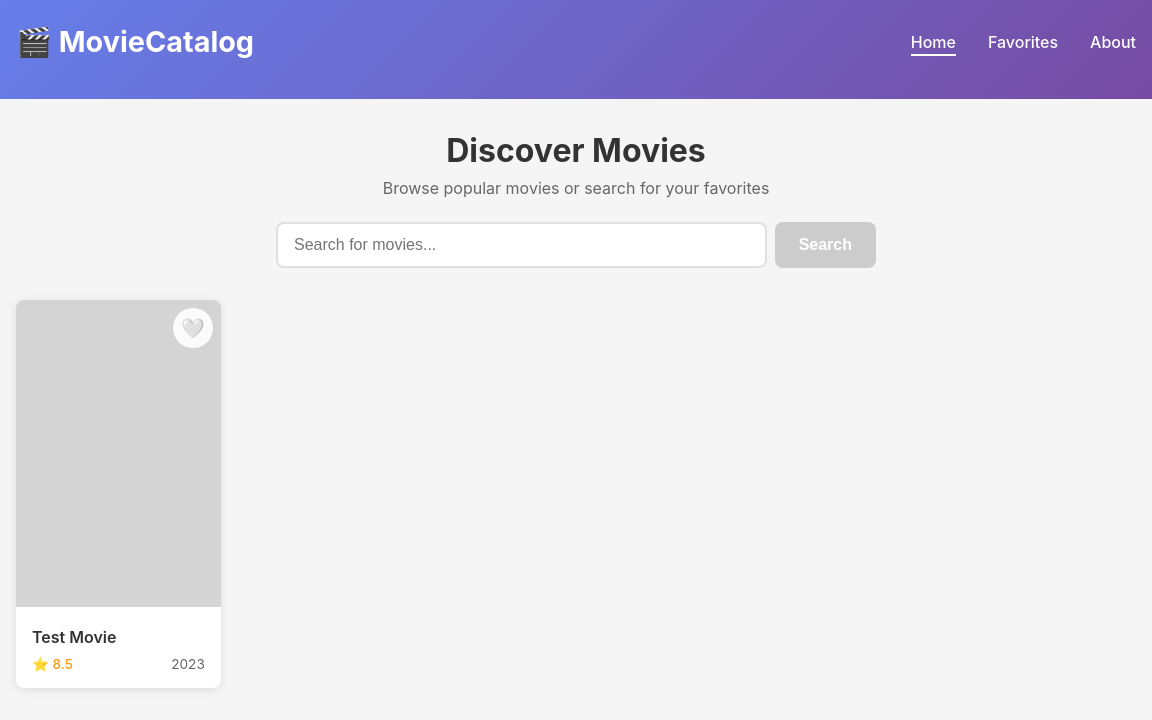
Movie Catalog E2E Tests › should navigate to Favorites page
What coordinates should you click on to do the following:
click the link "Favorites"
I would click on:
 (1023, 42)
Its box is [988,32,1058,52].
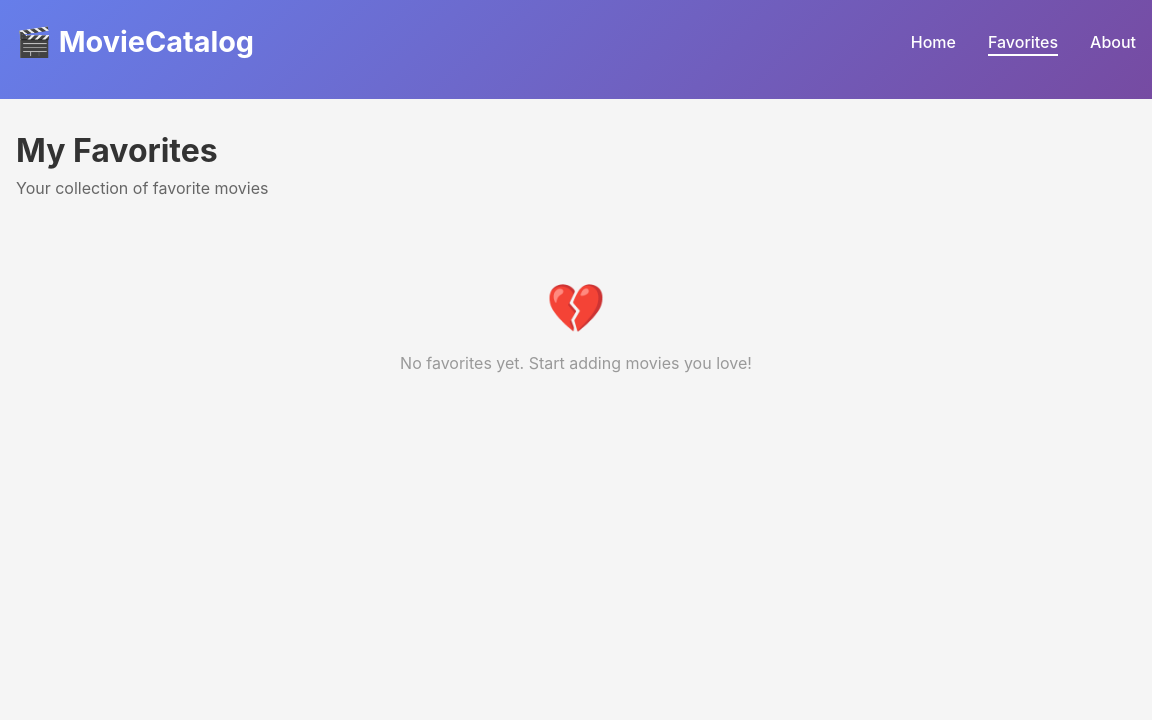
Result: the heading "My Favorites" is shown at [16,131,218,170]
